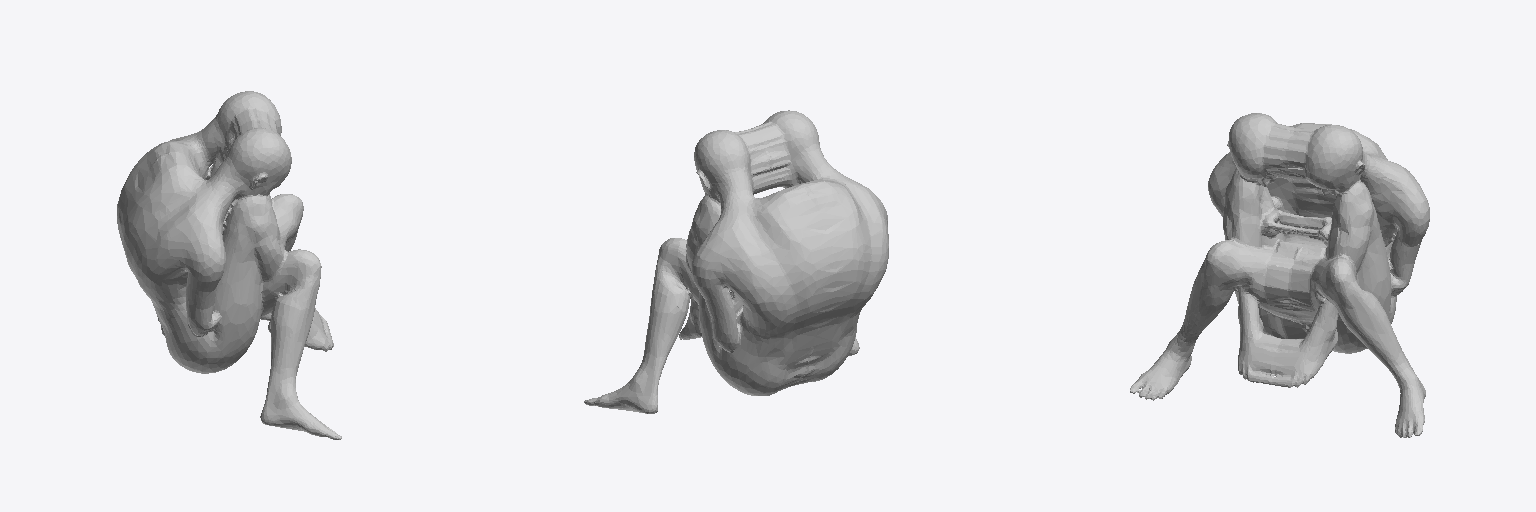
File: serhibrido_decimate.obj
3 renders of one model, left to right at view 1: azimuth 30°, elevation 25°; view 2: azimuth 150°, elevation 25°; view 3: azimuth 270°, elevation 25°, orthographic.
Visible parts, largest first — view 1: HG_Body; view 2: HG_Body; view 3: HG_Body.
Part boxes in pixels (bbox=[...]): HG_Body: bbox=[117, 91, 341, 439]; HG_Body: bbox=[584, 110, 888, 413]; HG_Body: bbox=[1130, 113, 1429, 437].
Bounding box in the file's own units: 1.69 × 1.94 × 1.91.